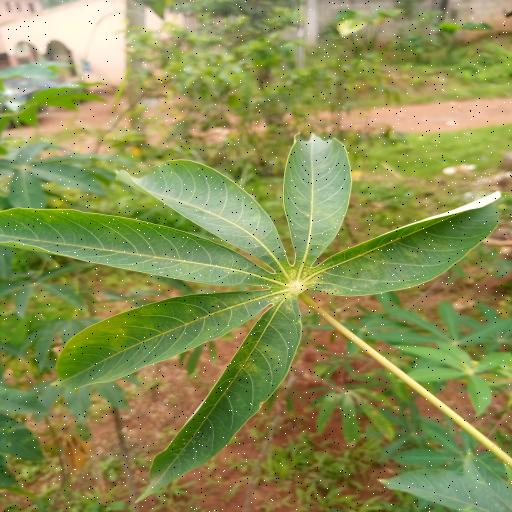Cassava_Mosaic: (4, 132, 508, 488)
